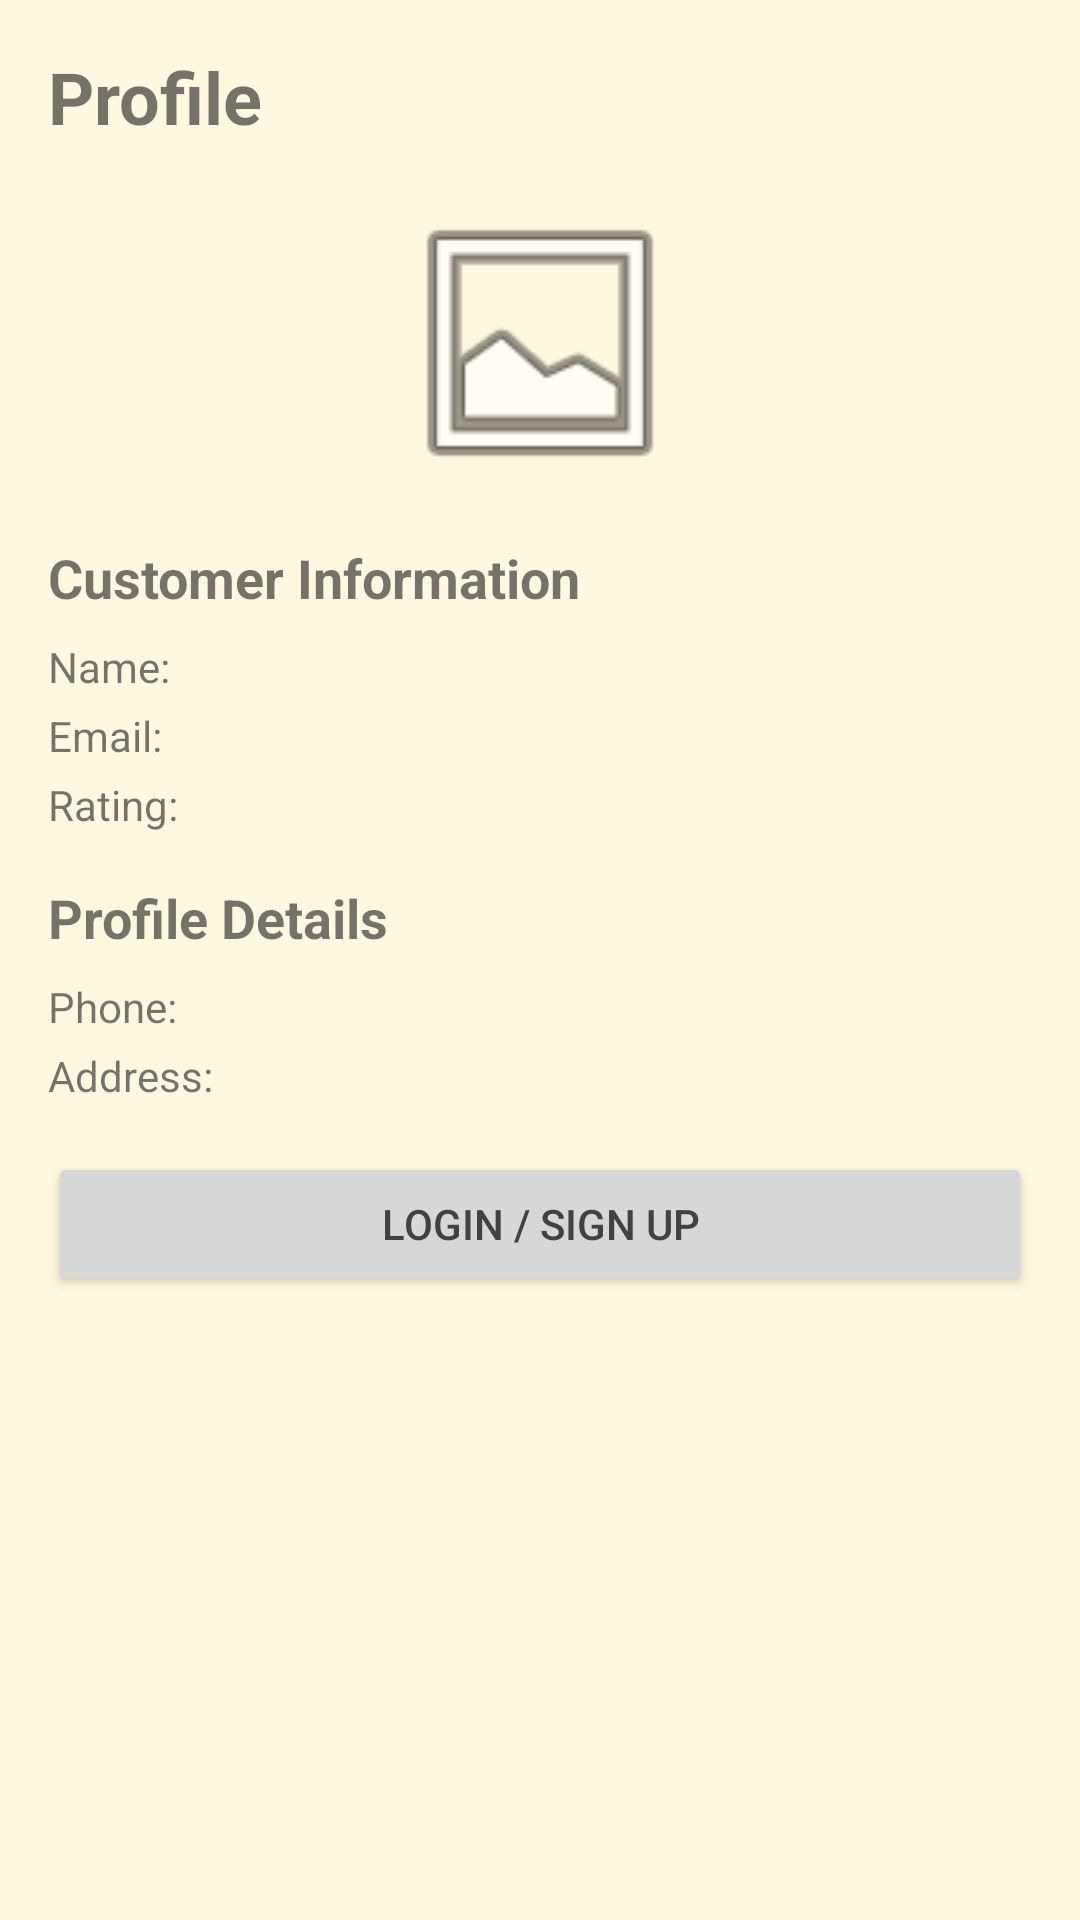

Locate icon controls on the screen. Image size 1080x1920, boxes as (x1, y1, x2, y2).
gallery: (426, 229, 654, 457)
